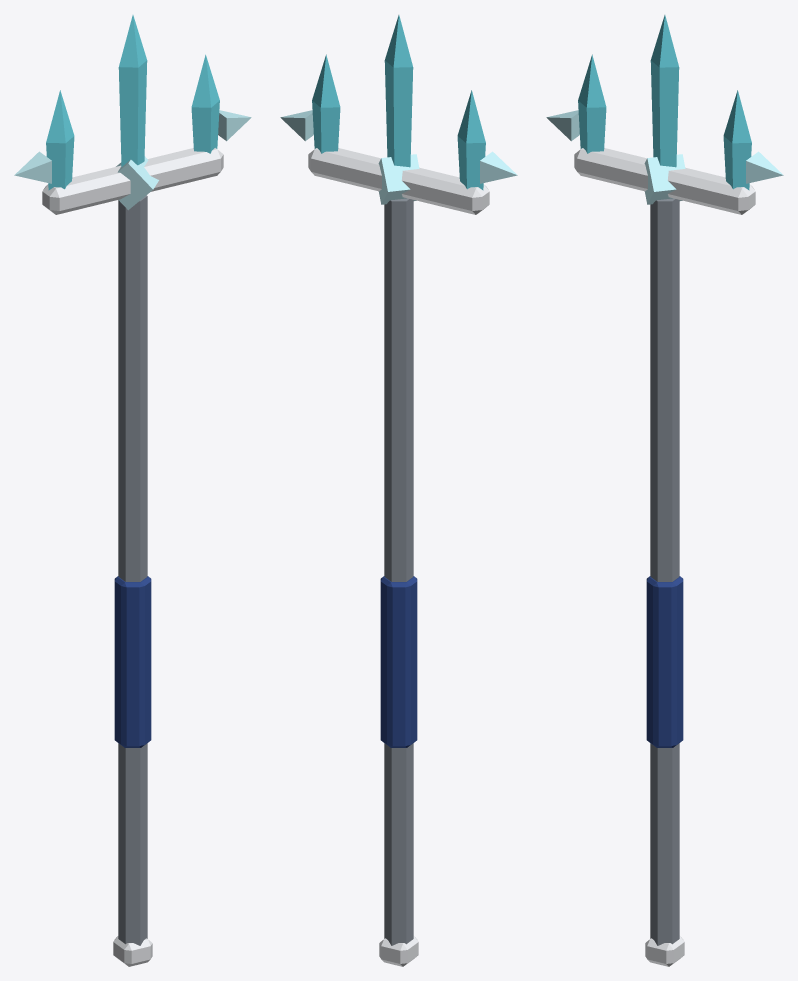
The model's file is DiamondTrident.fbx.
3 views of the same model, side by side, from view 1: azimuth 30°, elevation 25°; view 2: azimuth 150°, elevation 25°; view 3: azimuth 330°, elevation 25° (orthographic).
Visible parts, largest first — view 1: DiamondTrident; view 2: DiamondTrident; view 3: DiamondTrident.
Part boxes in pixels (x1,y1,x2,y2): DiamondTrident: (14, 15, 251, 966); DiamondTrident: (280, 15, 517, 966); DiamondTrident: (546, 15, 783, 966).
Bounding box in the file's own units: 1.5 × 5.72 × 0.3414.
Materials: 1 (1 with a texture image).
